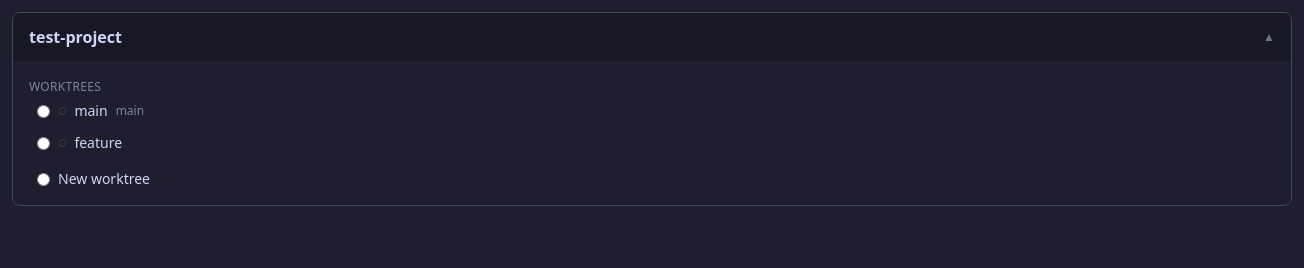
Test: ProjectCard › Start button for containerless worktrees (AC3.1, AC3.2, AC3.3, AC3.4) › AC3.1: Start button visible when worktree selected and container === null
Note: Click on the containerless worktree (feature)
Click the radio button labelled "◌ feature".
click(44, 143)  # box [37,136,50,150]
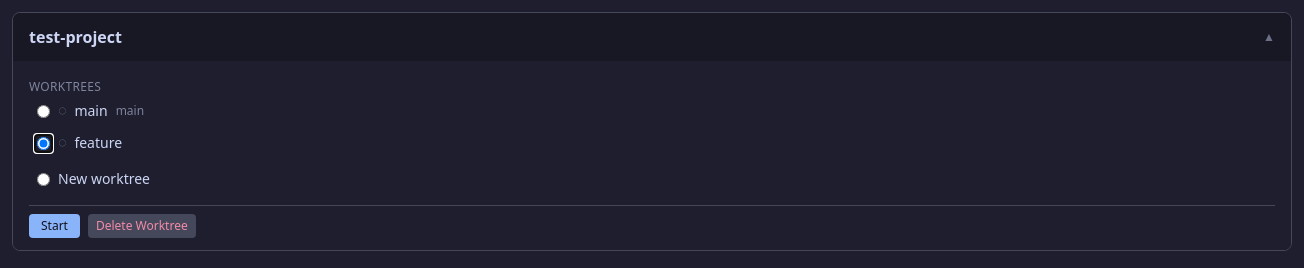
Expected: the button "Start" is shown, [29,214,80,238]
